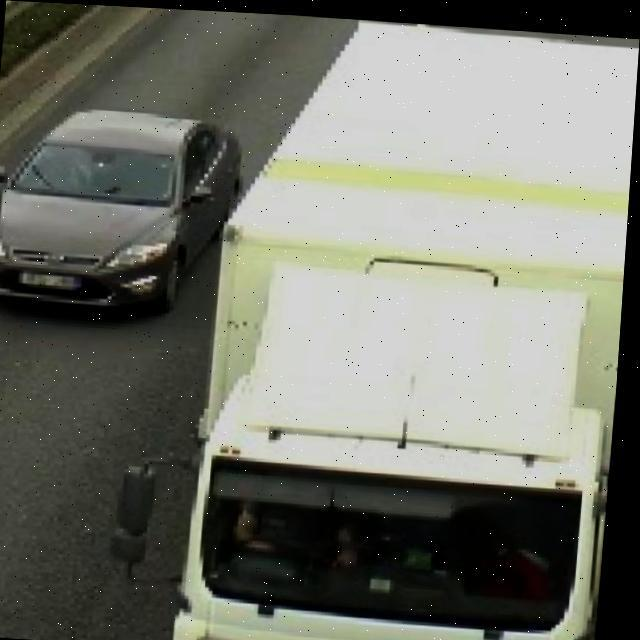truck: (121, 6, 640, 640)
